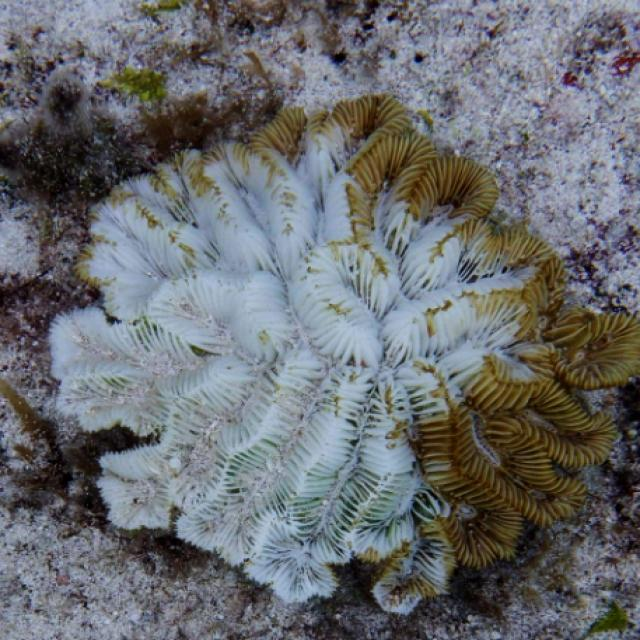Coral: (45, 91, 640, 623)
